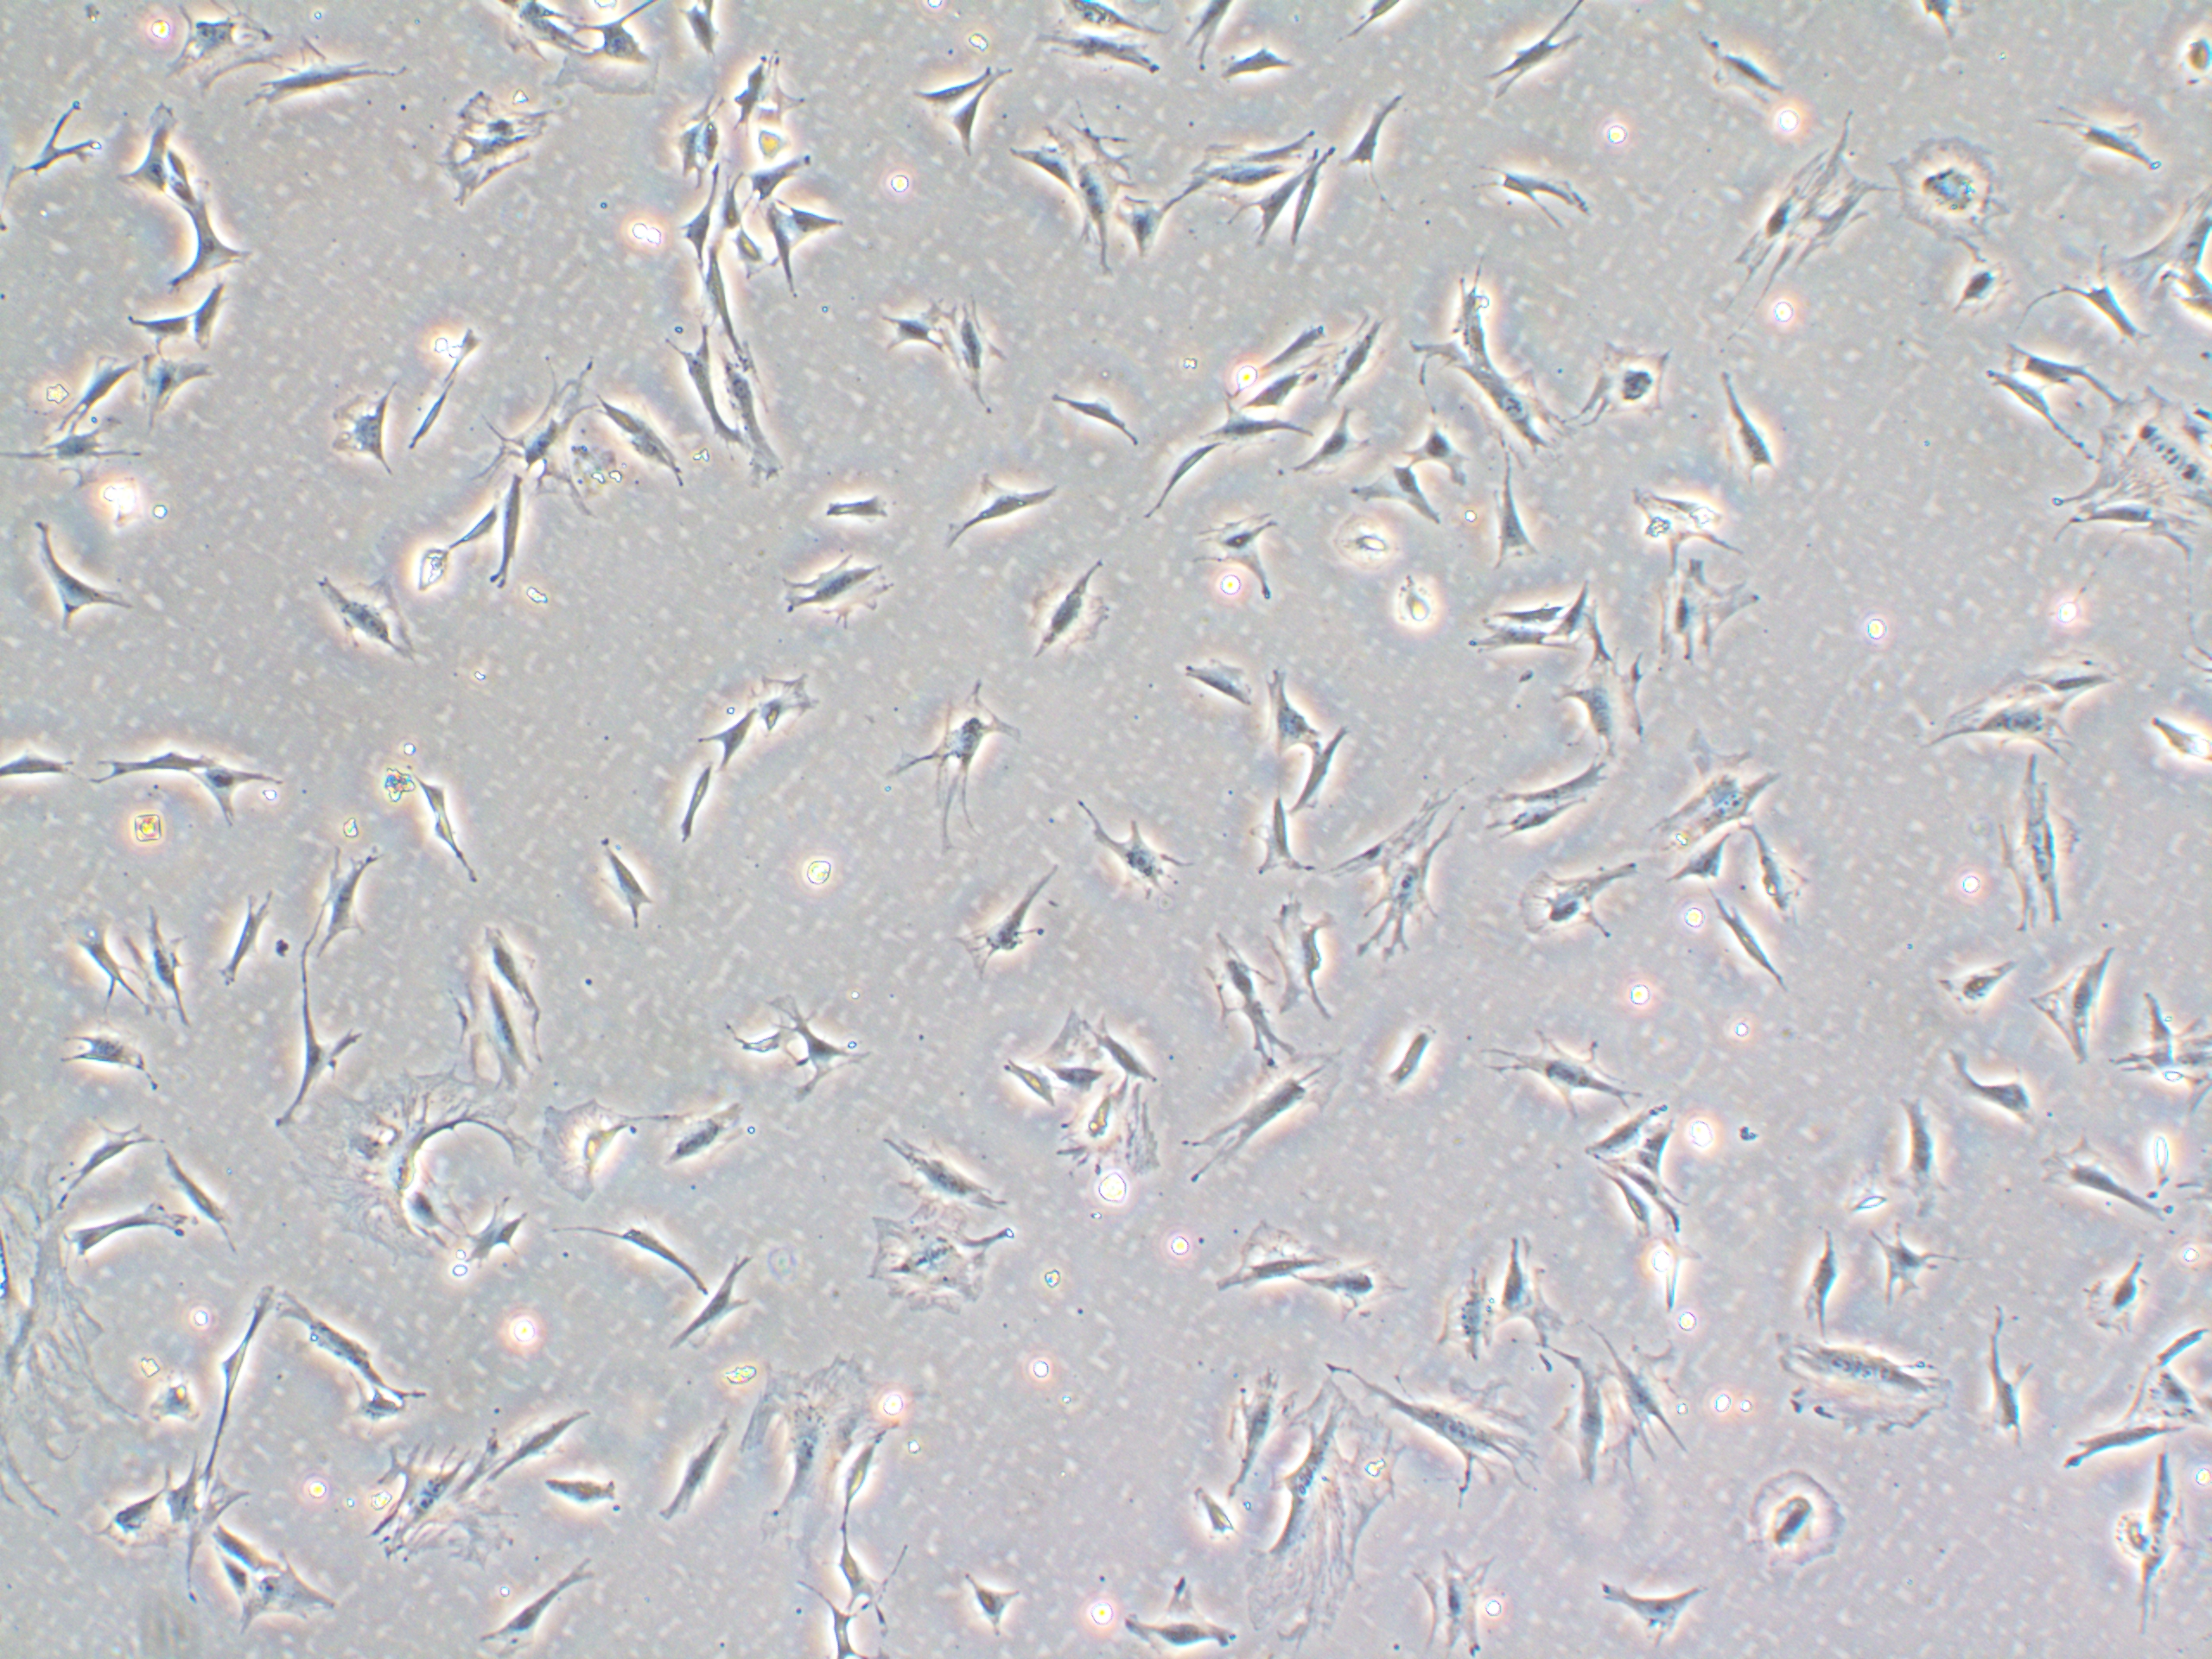polygonal: (871, 669, 1043, 852), (1888, 652, 2132, 767), (1184, 1040, 1359, 1188), (852, 1108, 1029, 1234), (1979, 770, 2107, 932), (258, 1265, 404, 1401), (0, 516, 148, 648), (462, 1537, 622, 1659), (1576, 1321, 1693, 1474), (37, 887, 153, 1039), (949, 852, 1064, 1006), (237, 33, 418, 127), (284, 960, 371, 1147), (1548, 624, 1660, 763), (282, 817, 392, 958), (1191, 924, 1299, 1066), (2026, 932, 2128, 1077), (766, 542, 907, 647), (2031, 1136, 2182, 1232), (646, 1398, 756, 1528), (303, 561, 435, 669), (665, 1234, 775, 1363), (467, 915, 575, 1046), (568, 1218, 723, 1309), (712, 343, 806, 490), (773, 979, 878, 1110), (118, 866, 200, 1030), (1493, 1033, 1646, 1121), (1076, 782, 1170, 924), (1022, 540, 1123, 671), (1479, 9, 1592, 124), (589, 826, 683, 962), (655, 315, 742, 462), (1965, 1307, 2045, 1466), (1705, 366, 1801, 498), (643, 1094, 759, 1202), (2034, 96, 2163, 193), (946, 467, 1076, 563), (1461, 155, 1604, 240), (1648, 767, 1822, 836), (1486, 1225, 1576, 1358), (1062, 129, 1136, 291), (587, 389, 690, 504), (2047, 1412, 2186, 1495), (1021, 26, 1179, 99), (404, 758, 489, 892), (941, 282, 1014, 434), (1183, 125, 1317, 207), (479, 1408, 613, 1490), (1211, 1208, 1329, 1300), (49, 1107, 165, 1199), (312, 382, 402, 500), (1028, 369, 1153, 455), (42, 1023, 172, 1105), (1463, 366, 1576, 460), (1554, 1347, 1620, 1499), (209, 863, 280, 1000), (1696, 28, 1803, 118), (1587, 331, 1674, 441), (1714, 894, 1803, 1000), (1298, 1255, 1423, 1330), (1106, 178, 1200, 277), (1334, 77, 1414, 192), (1575, 1577, 1721, 1640), (1923, 945, 2024, 1035), (125, 349, 226, 439), (1944, 1051, 2048, 1138), (516, 1467, 643, 1537), (470, 971, 547, 1086), (158, 1148, 246, 1249), (1749, 831, 1824, 945), (54, 1190, 197, 1249), (1475, 796, 1602, 863), (1249, 650, 1324, 762), (1477, 758, 1641, 809), (1352, 455, 1447, 538), (42, 350, 138, 434), (171, 197, 251, 296), (1275, 404, 1367, 490), (2069, 256, 2153, 350), (951, 64, 1033, 160), (186, 755, 284, 835), (1423, 1544, 1491, 1659), (1886, 1091, 1947, 1218), (91, 735, 202, 803), (1287, 714, 1362, 816), (1878, 1211, 1952, 1312), (1238, 308, 1331, 390), (954, 1556, 1033, 1650), (481, 472, 535, 608), (1240, 784, 1322, 873), (1172, 631, 1261, 713), (246, 1563, 338, 1642), (1453, 240, 1503, 383), (1799, 1236, 1869, 1338), (1381, 1004, 1451, 1107), (1482, 446, 1536, 577), (1331, 305, 1393, 413), (193, 1469, 254, 1579), (678, 702, 765, 779), (1183, 397, 1324, 444), (897, 54, 1001, 117), (1204, 35, 1308, 98), (1407, 416, 1484, 498), (1615, 1161, 1691, 1243), (1003, 134, 1078, 218), (1277, 138, 1327, 258), (1660, 829, 1740, 899), (1578, 1096, 1667, 1159), (0, 732, 91, 791), (1588, 1162, 1656, 1239), (1237, 364, 1320, 423), (1461, 624, 1575, 666), (155, 1455, 204, 1546), (885, 293, 944, 364), (188, 281, 239, 364), (784, 195, 852, 251), (812, 490, 907, 528), (118, 308, 200, 352), (209, 1528, 284, 1565)
small-round: (1317, 505, 1400, 577), (1390, 565, 1463, 641)
spread: (280, 1058, 535, 1272), (1231, 1371, 1409, 1652), (1710, 96, 1886, 312), (740, 1349, 902, 1572), (1743, 1310, 1965, 1460), (1325, 1349, 1552, 1493), (1332, 772, 1484, 978), (2045, 389, 2212, 566), (369, 1431, 523, 1581), (866, 1187, 1026, 1330), (423, 85, 559, 221), (1052, 1077, 1188, 1211), (1886, 122, 2017, 260), (531, 1087, 651, 1213)
